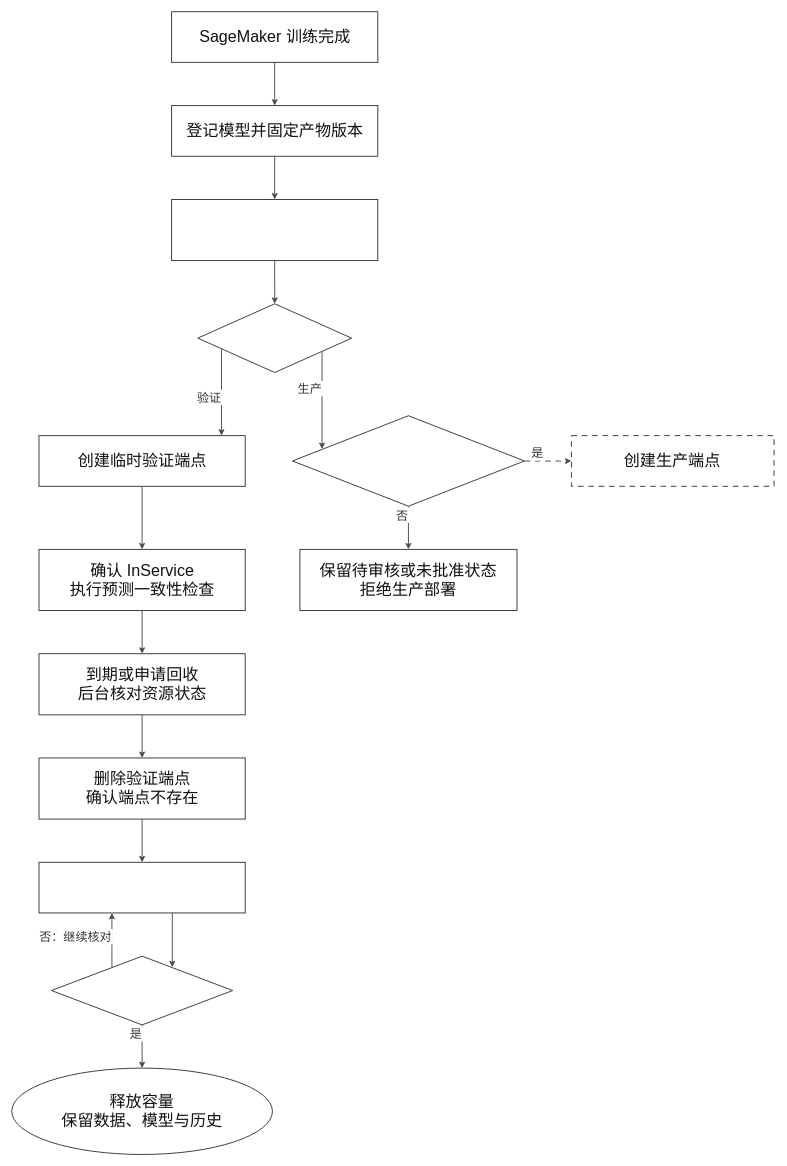
The diagram is 787 pixels wide and 1166 high, and some of its shapes have lost their labels. Each missing label, with the centre of its shape:
外部验证与保留测试 保存评估依据: [274,230]
服务用途: [274,338]
清理完成？: [142,990]
清理所属配置与服务模型: [141,887]
独立审核通过 且证据一致？: [408,460]
